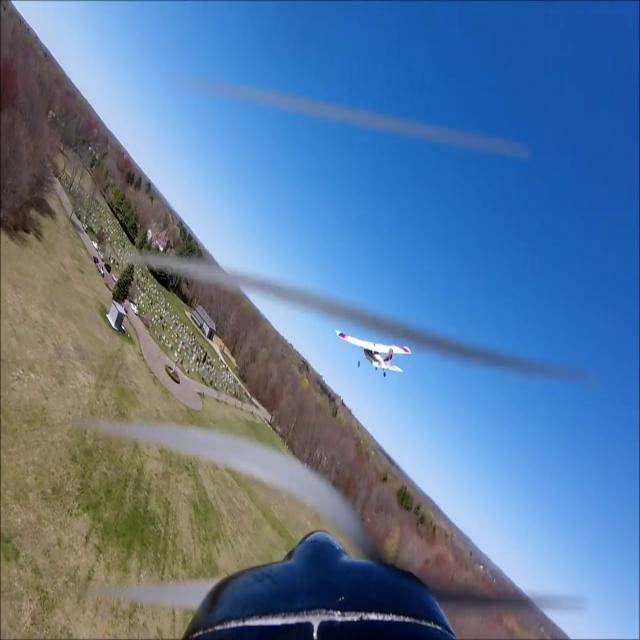iha: (370, 326, 377, 378)
